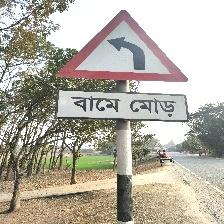Left-Turn: (54, 9, 191, 122)
